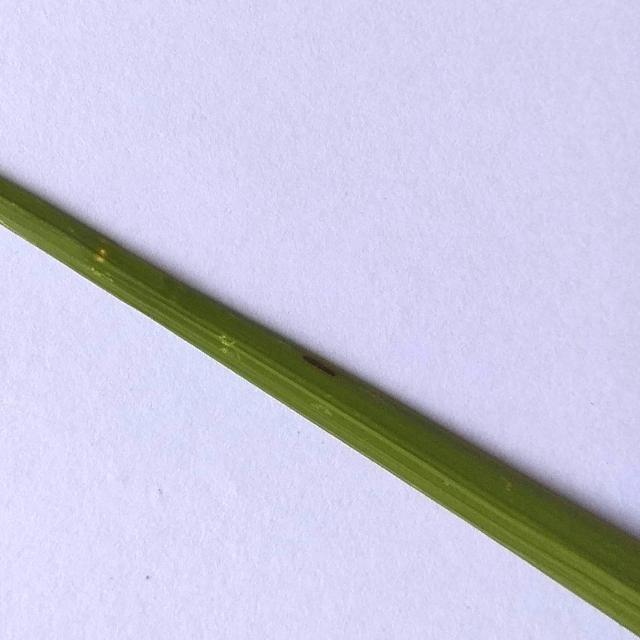brownspots: (292, 341, 349, 386)
